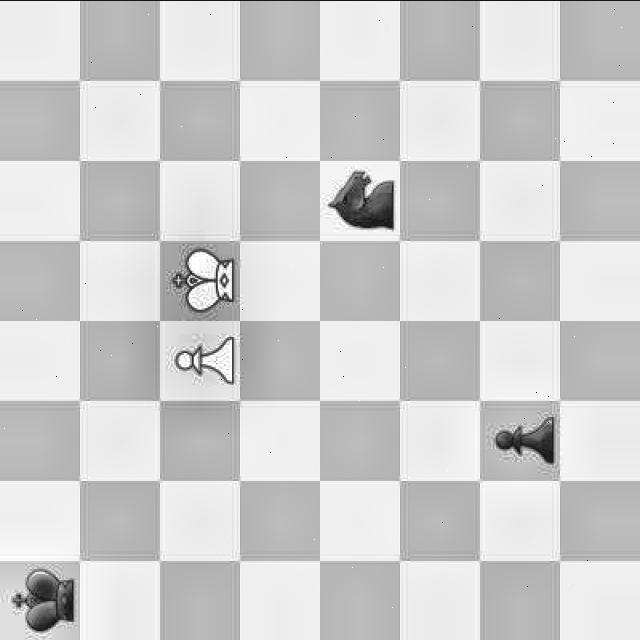Black Knight: (318, 160, 402, 236)
black king: (2, 571, 82, 639)
black pawn: (483, 403, 555, 470)
white king: (162, 242, 240, 316)
white pawn: (165, 323, 237, 395)
